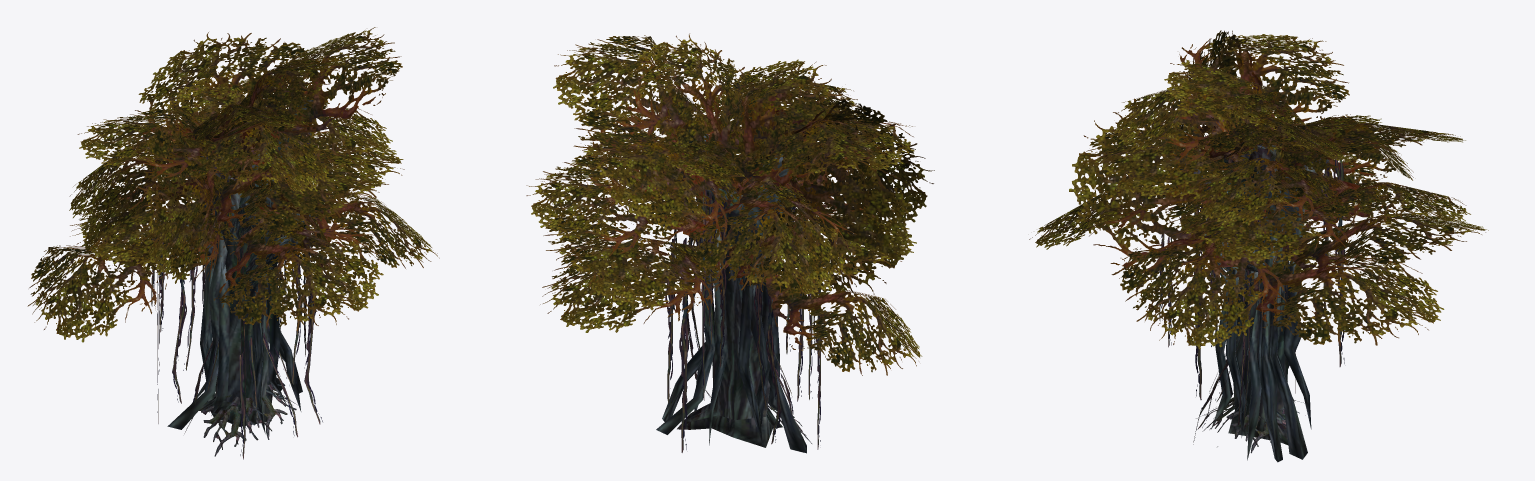
File: shenshu.FBX
The picture shows the model from 3 angles, left to right: view 1: azimuth 30°, elevation 25°; view 2: azimuth 150°, elevation 25°; view 3: azimuth 270°, elevation 25°; orthographic projection. The views are drawn at different scales.
Parts seen in each view (by area): view 1: environment_Tree_dashu_002_a; view 2: environment_Tree_dashu_002_a; view 3: environment_Tree_dashu_002_a.
Part boxes in pixels (bbox=[...]): environment_Tree_dashu_002_a: bbox=[27, 27, 439, 459]; environment_Tree_dashu_002_a: bbox=[526, 33, 934, 453]; environment_Tree_dashu_002_a: bbox=[1029, 30, 1488, 462].
Size of the model in its own units: 62605 by 56452 by 68254.
